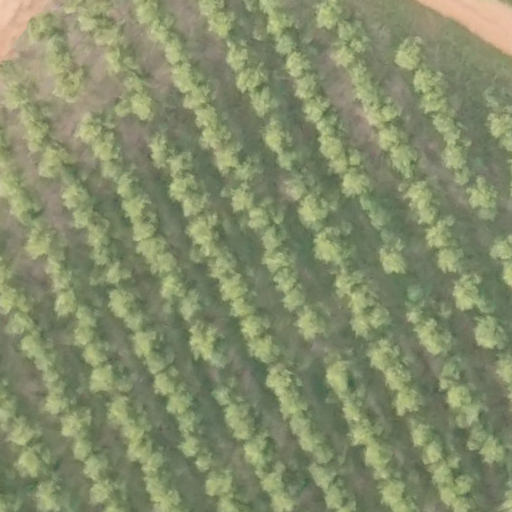eucalipto: (185, 313, 239, 369), (75, 109, 127, 161), (312, 221, 360, 268), (325, 354, 368, 399), (292, 302, 337, 343), (415, 315, 460, 356), (472, 309, 512, 353), (454, 271, 495, 313), (462, 171, 502, 214), (468, 423, 507, 467), (239, 432, 283, 471), (183, 209, 223, 251), (36, 136, 74, 179), (224, 401, 263, 442), (298, 189, 335, 232), (394, 28, 428, 74), (436, 354, 475, 394), (433, 114, 474, 152), (51, 67, 94, 103), (87, 362, 132, 396), (391, 379, 429, 419), (374, 236, 411, 277), (363, 435, 402, 473), (6, 181, 42, 221), (88, 476, 130, 510), (154, 270, 198, 302), (337, 16, 374, 54), (251, 87, 291, 122), (385, 142, 425, 177), (348, 304, 391, 336), (339, 163, 377, 199), (272, 390, 314, 422), (57, 404, 93, 441), (210, 375, 246, 412), (28, 218, 63, 256), (365, 336, 404, 370), (315, 127, 354, 160), (260, 118, 296, 153), (5, 414, 41, 449), (222, 180, 258, 215), (81, 335, 119, 368), (234, 63, 273, 95), (147, 130, 182, 165), (402, 177, 438, 211), (157, 33, 191, 68), (15, 447, 51, 480), (20, 328, 57, 360), (234, 149, 267, 184), (74, 451, 112, 480), (225, 290, 261, 320), (433, 245, 473, 272), (303, 433, 337, 464), (272, 261, 303, 295), (117, 167, 147, 202), (108, 48, 143, 78), (195, 470, 237, 495), (171, 170, 203, 202), (126, 92, 160, 122), (107, 399, 141, 429), (108, 288, 143, 317), (59, 183, 95, 211), (255, 465, 292, 492), (409, 418, 442, 448), (332, 279, 371, 304), (377, 121, 408, 152), (263, 362, 298, 389), (151, 367, 182, 397), (51, 289, 81, 320), (86, 220, 117, 250), (207, 252, 242, 278), (223, 39, 255, 67), (286, 48, 317, 76), (131, 327, 163, 354), (193, 102, 227, 127), (181, 437, 218, 457), (140, 237, 172, 258), (164, 391, 194, 413), (143, 456, 171, 478)
